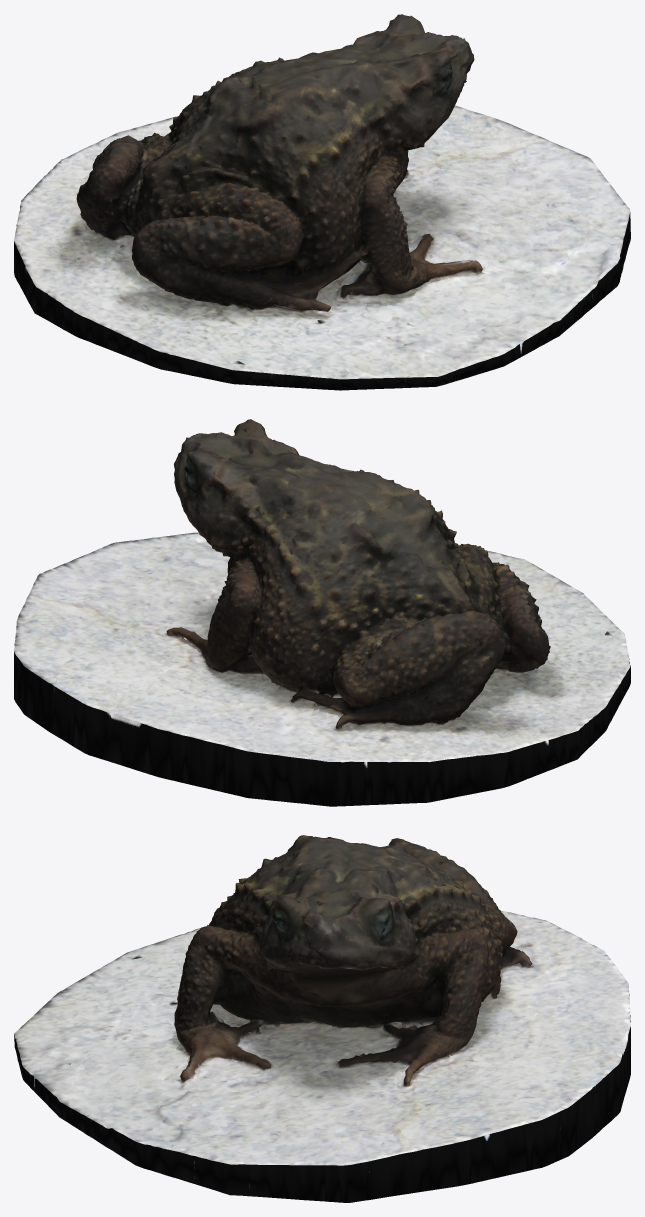
File: EvergreenToad.fbx
3 renders of one model, top to bottom at view 1: azimuth 30°, elevation 25°; view 2: azimuth 150°, elevation 25°; view 3: azimuth 270°, elevation 25°, orthographic. The views are drawn at different scales.
Visible parts, largest first — view 1: Incilius; view 2: Incilius; view 3: Incilius.
Boxes of the visible parts, x1,y1,x2,y2 form: Incilius: (14,14,630,390); Incilius: (14,419,630,806); Incilius: (14,835,630,1202).
Bounding box in the file's own units: 2869 × 1055 × 2722.
1 material, 1 textured.
